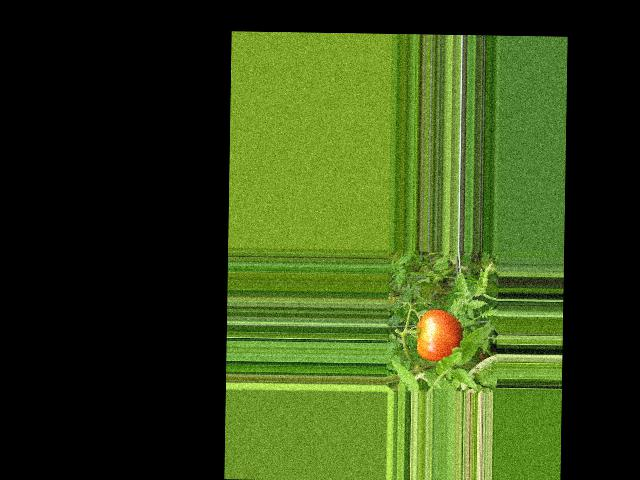tomato: (415, 309, 462, 360)
